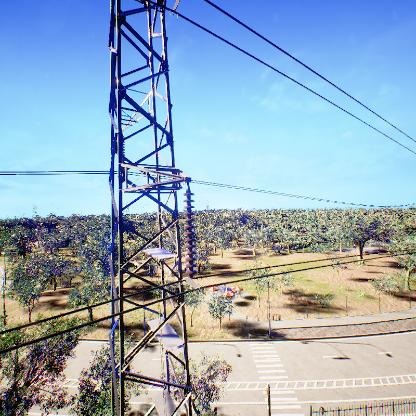insulator: (181, 188, 200, 277)
